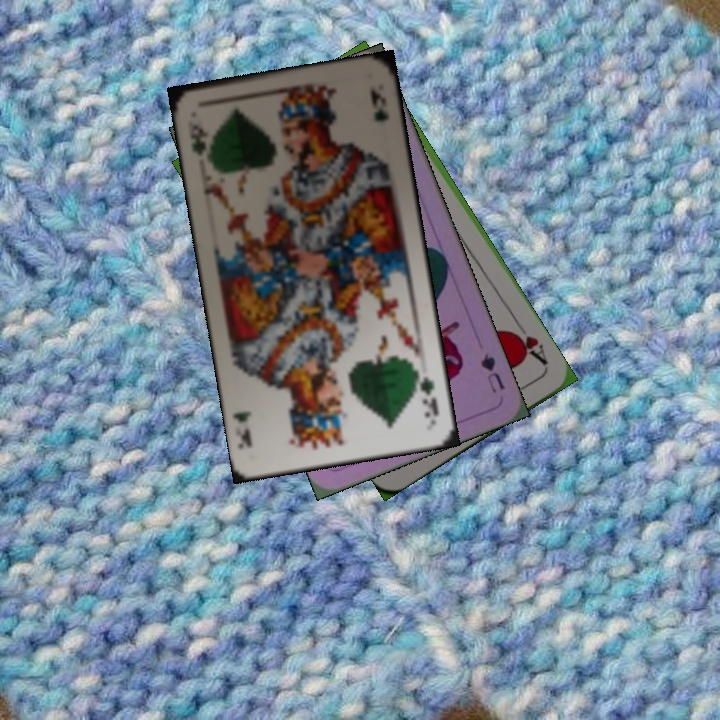GK: (411, 366, 442, 421), (183, 120, 210, 158)
GU: (476, 349, 507, 396)
HA: (507, 327, 551, 369)
